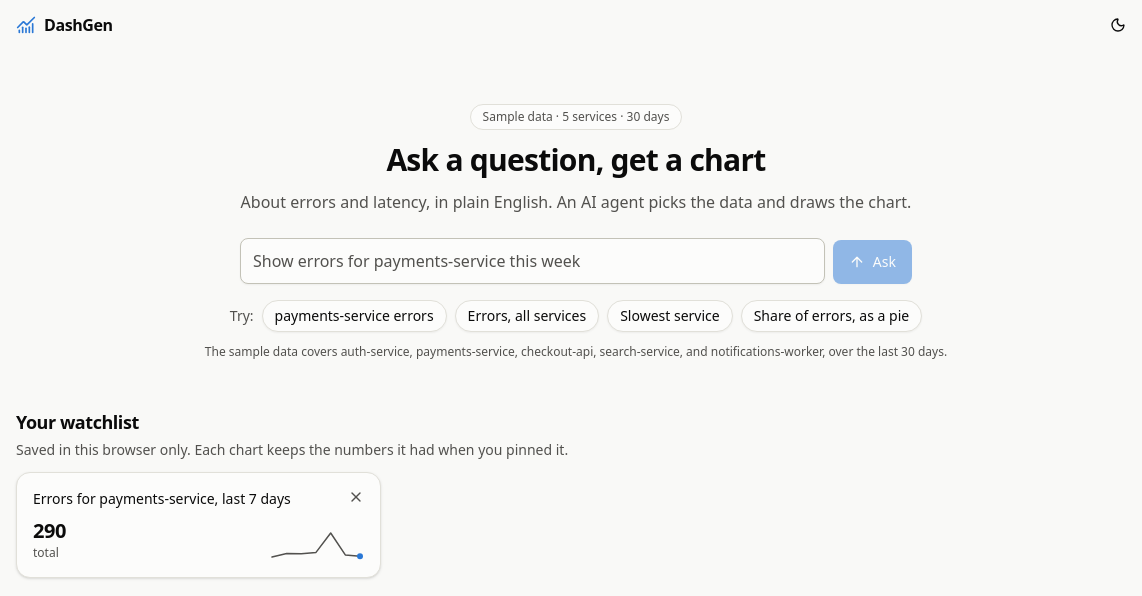
a chart's pin, link and download › keeps saying the pins won't last when the browser can't save the last one's unpinning
Click the button named "Unpin Errors for payments-service, last 7 days". click: (356, 497)
box: [340,481,372,513]
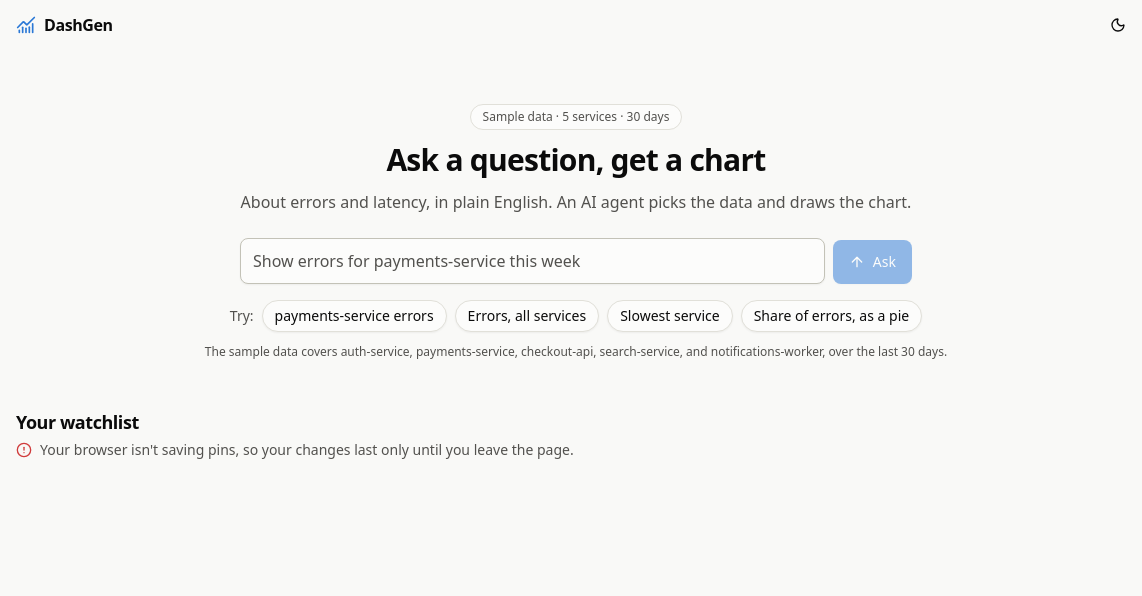
Expected: the text "Your browser isn't saving pins, so your changes last only until you leave the page." is shown, [40,440,574,459]
Expected: the list item "Errors for payments-service, last 7 days 290 total" is gone
